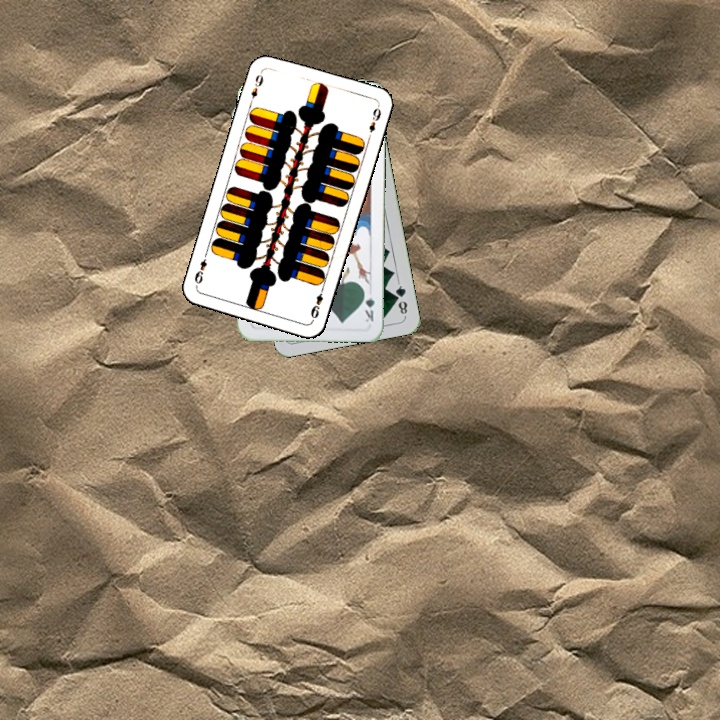E9: (246, 67, 266, 107), (307, 283, 326, 323)
G8: (391, 278, 410, 319)
GK: (360, 285, 377, 325)
